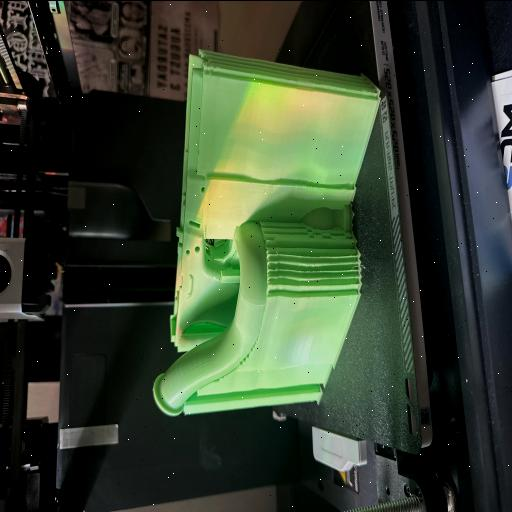cracks: (198, 156, 216, 268)
